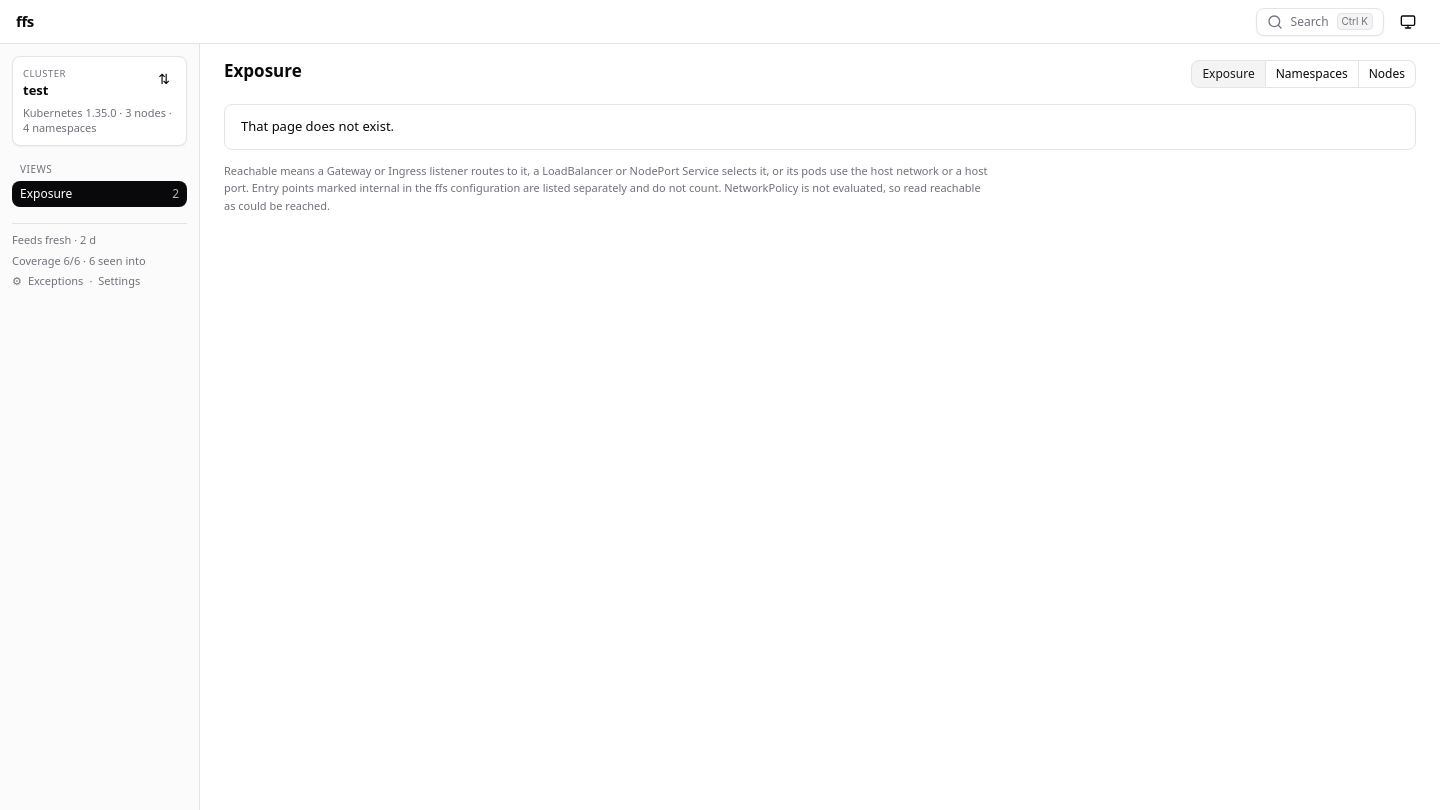
opens with Ctrl-K, searches once after typing and jumps to the hit
The image size is (1440, 810).
Type keys "{Control>}k{/Control}"
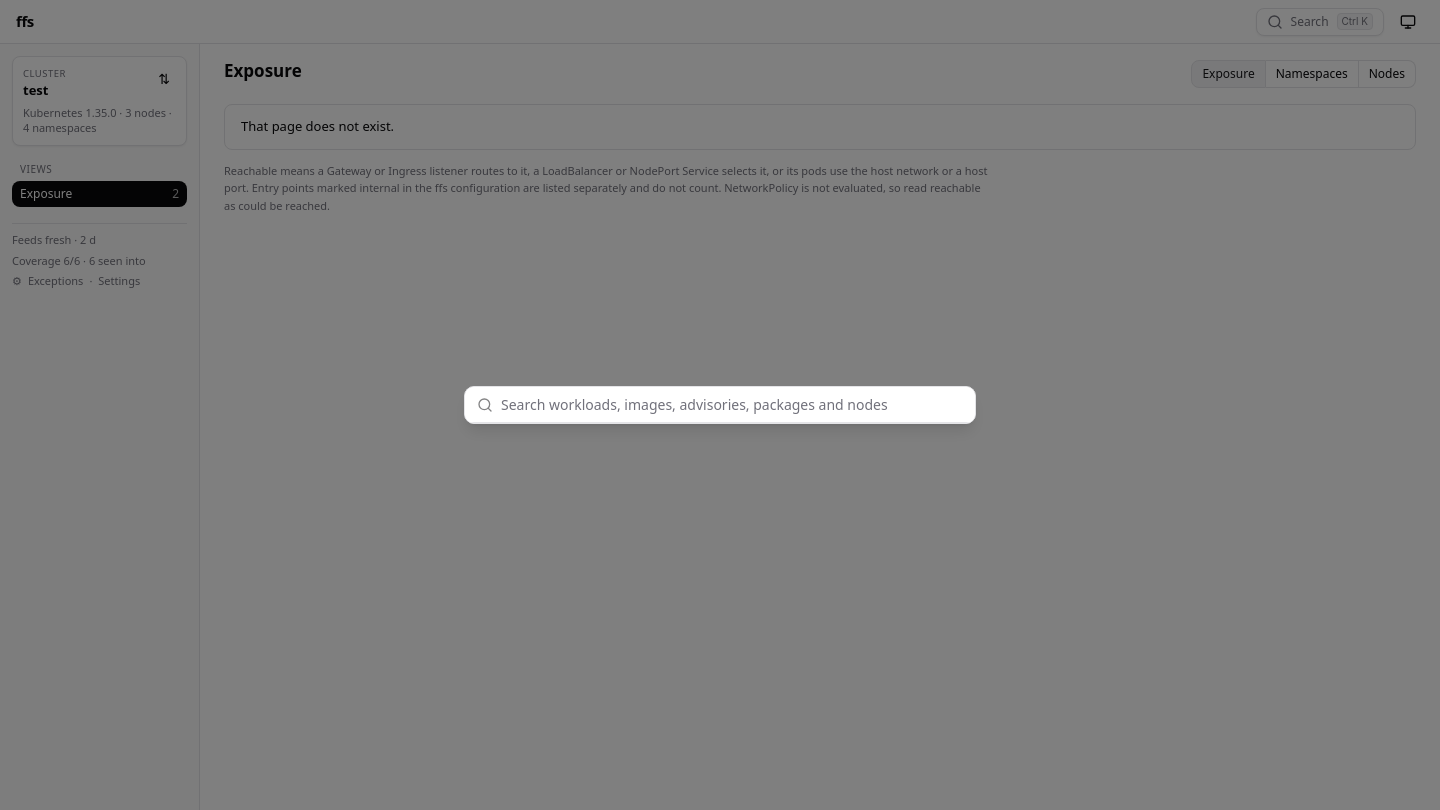
Type "web" into the dropdown at (732, 404), box [501,384,963,424]
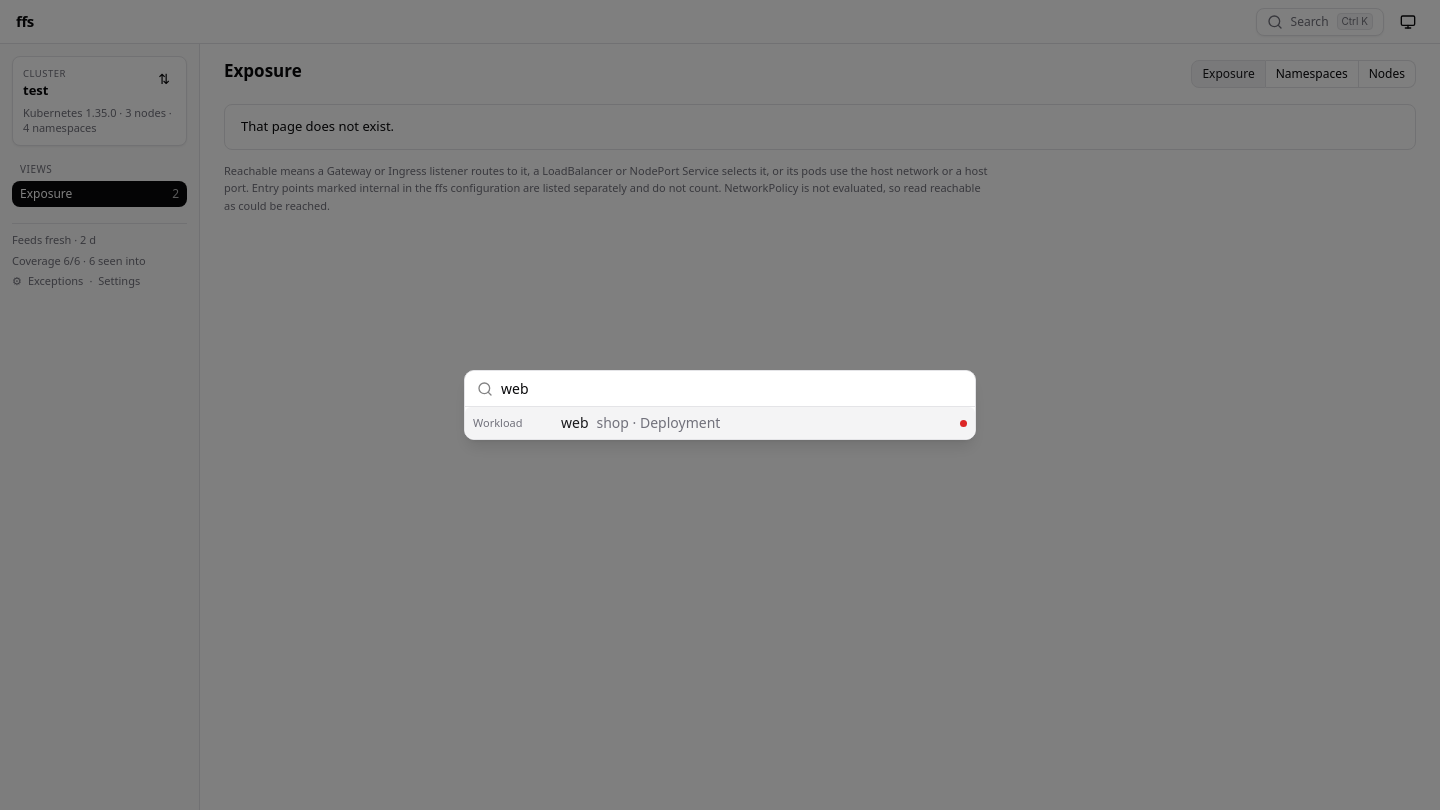
Click the option "web" at (720, 423), box [465,407,975,439]
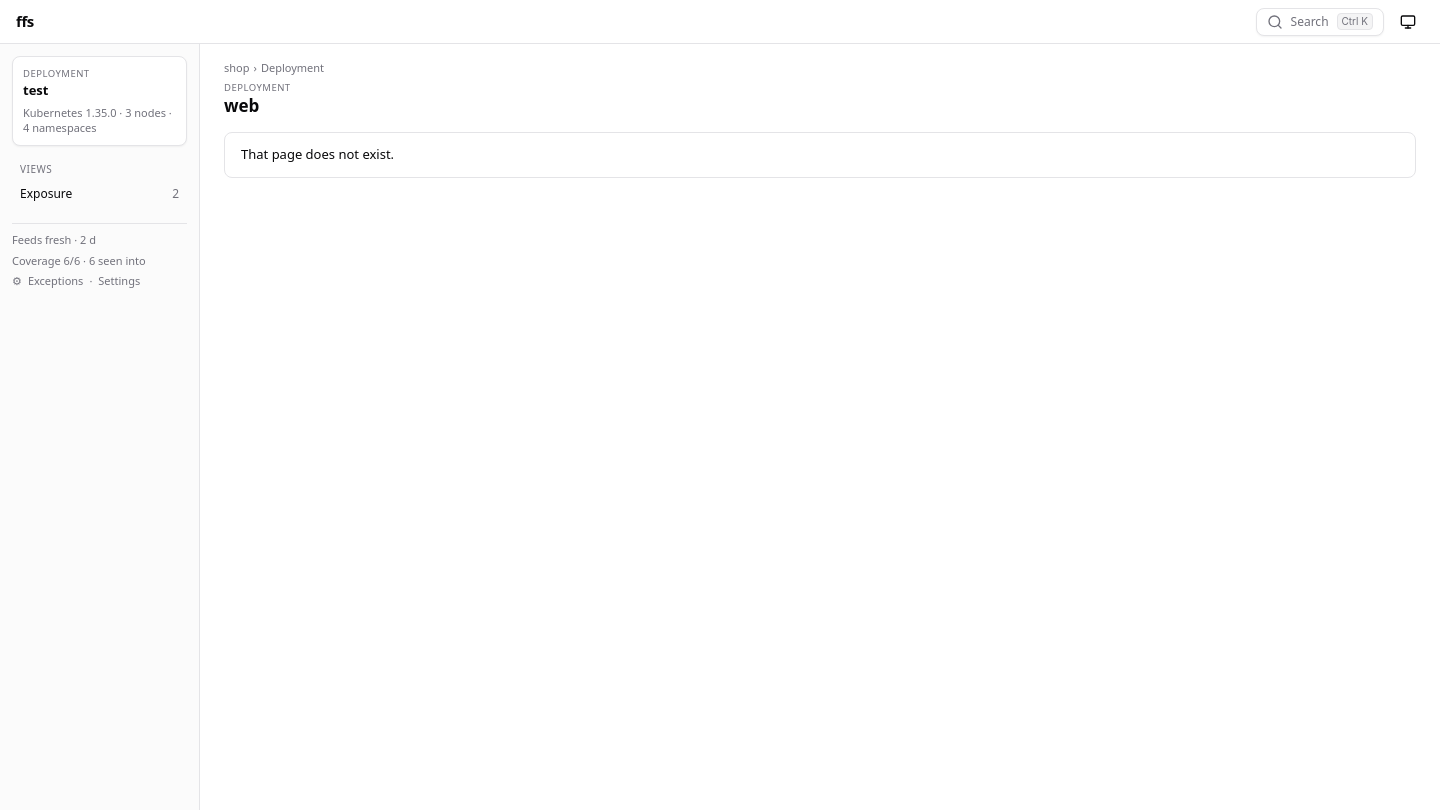
Expected: the dialog is gone
